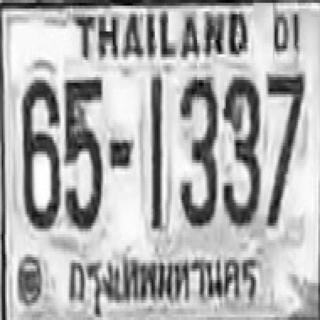N01: (149, 73, 162, 227)
N03: (178, 74, 216, 223), (222, 74, 259, 223)
N05: (63, 74, 102, 229)
N06: (20, 77, 59, 226)
N07: (264, 70, 303, 224)
P04: (62, 245, 262, 320)
